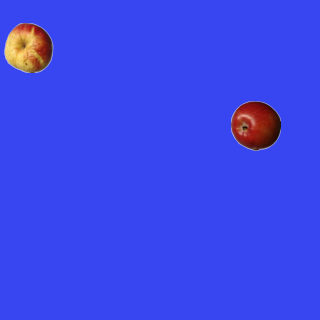Apple Braeburn: (230, 100, 280, 150)
Apple Red Yellow 1: (3, 22, 53, 72)
